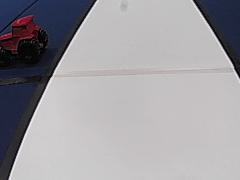Tracktor: (1, 13, 49, 65)
